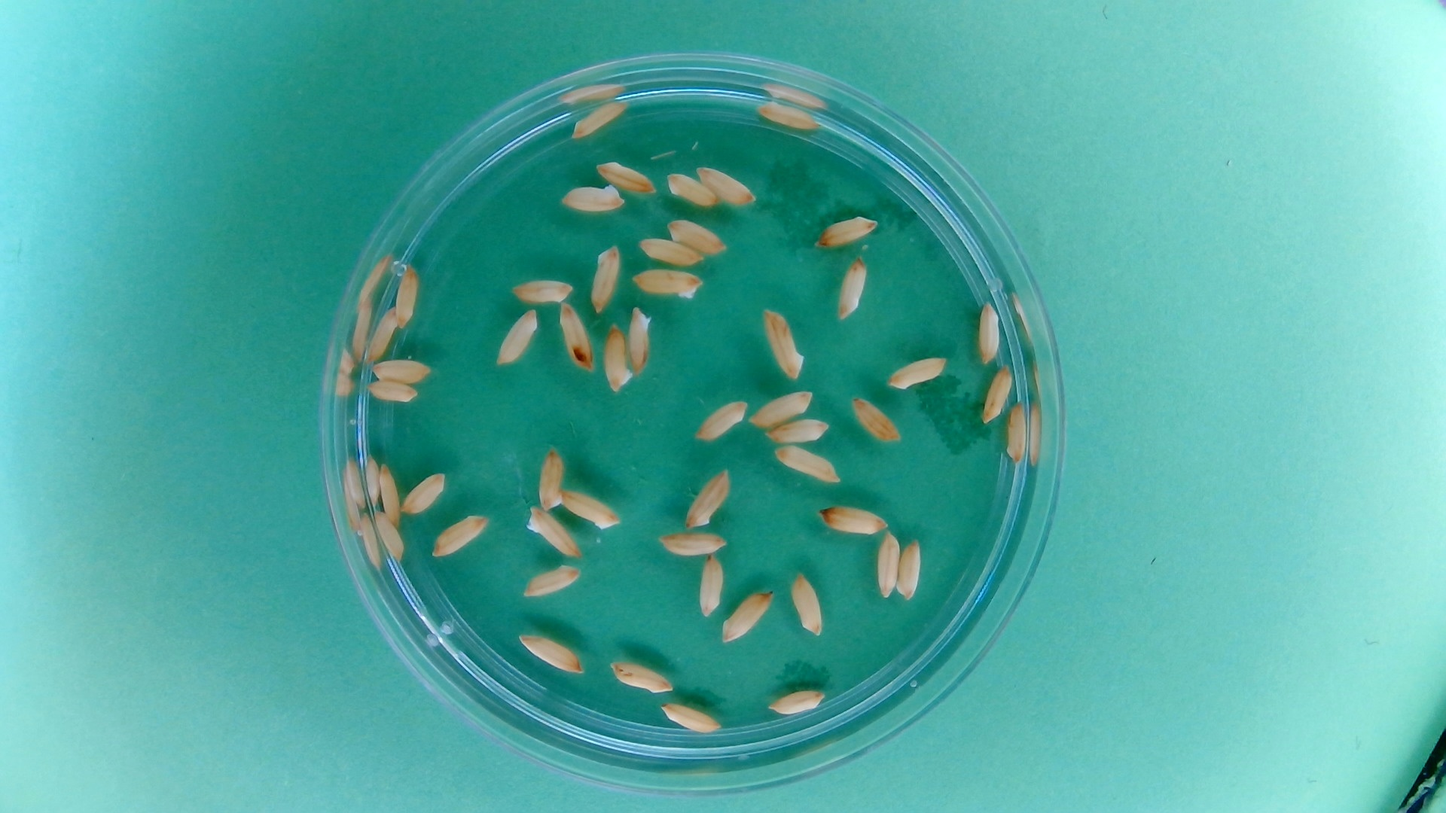no: (760, 305, 807, 381), (718, 587, 775, 645), (682, 466, 732, 531), (523, 505, 582, 559), (517, 632, 585, 676), (556, 300, 596, 374), (429, 511, 490, 559), (773, 443, 843, 484), (494, 306, 541, 367), (694, 163, 757, 208), (559, 487, 621, 531), (850, 394, 903, 445), (748, 389, 817, 428), (692, 397, 749, 444), (569, 98, 630, 141), (630, 266, 705, 300), (816, 503, 890, 537), (594, 157, 660, 195), (884, 353, 950, 391), (666, 217, 729, 256), (400, 468, 450, 517), (588, 243, 622, 315), (814, 212, 880, 249), (789, 571, 825, 638), (557, 181, 627, 215), (658, 699, 724, 735), (520, 563, 584, 600), (979, 361, 1016, 425), (754, 99, 823, 133), (609, 658, 674, 694), (601, 322, 633, 394), (656, 528, 730, 559), (664, 169, 721, 209), (834, 254, 868, 321), (364, 305, 401, 366), (635, 234, 703, 267), (535, 444, 567, 513), (392, 260, 422, 332), (763, 416, 831, 446), (694, 553, 725, 617), (974, 298, 1003, 366), (371, 507, 406, 563), (627, 304, 654, 376), (1002, 400, 1031, 467), (873, 529, 901, 598), (509, 276, 575, 305), (764, 687, 827, 717), (369, 357, 435, 385), (895, 537, 923, 602), (364, 376, 422, 406), (377, 461, 402, 527)
